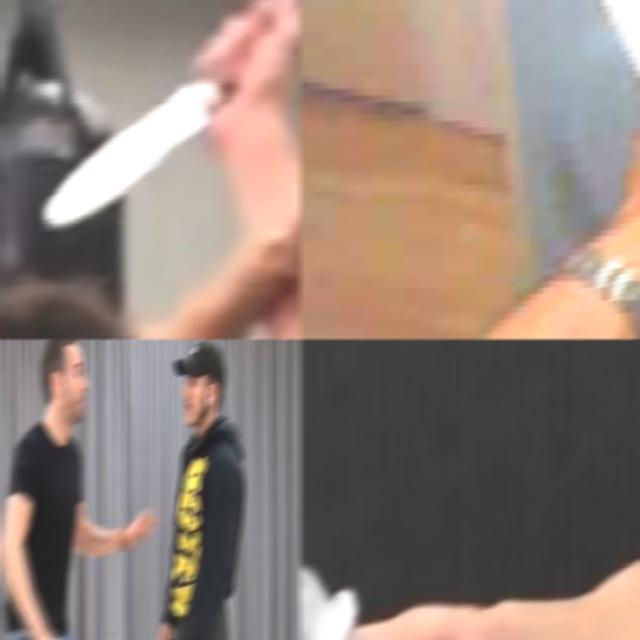Knife: (42, 80, 228, 228), (299, 442, 382, 640)
Knife_Handle: (38, 2, 301, 240), (299, 438, 529, 640), (525, 0, 640, 287), (143, 618, 176, 640)
